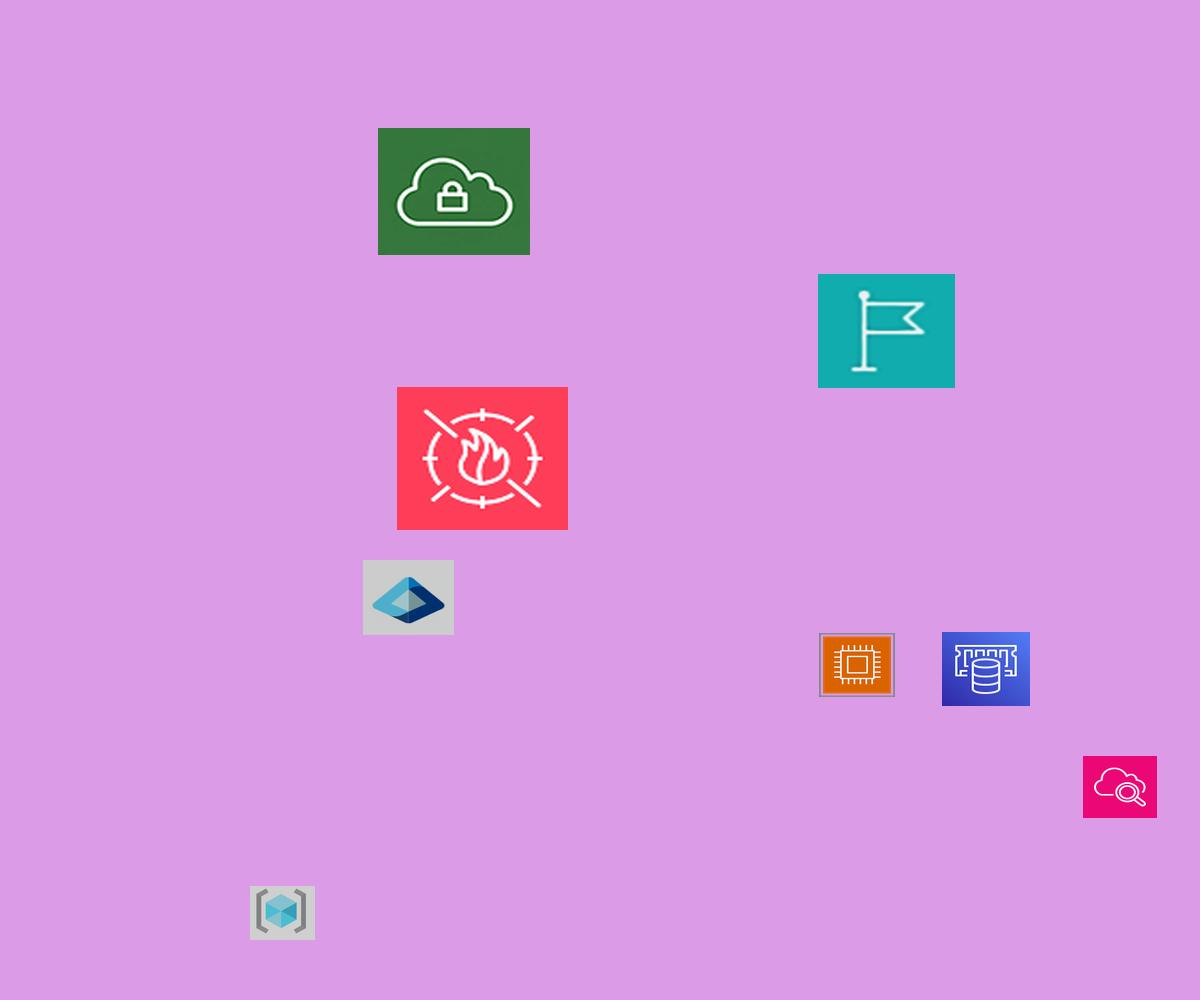AWS-Category_Compute: (819, 633, 895, 697)
AWS-CloudWatch: (1083, 756, 1157, 818)
AWS-ElastiCache: (942, 632, 1030, 706)
AWS-Private_vpc: (378, 128, 530, 255)
AWS-Region: (818, 274, 955, 388)
AWS-WAF: (397, 387, 568, 530)
Azure_microsoft_entra: (363, 560, 454, 635)
Azure_resource_group: (250, 886, 315, 940)
